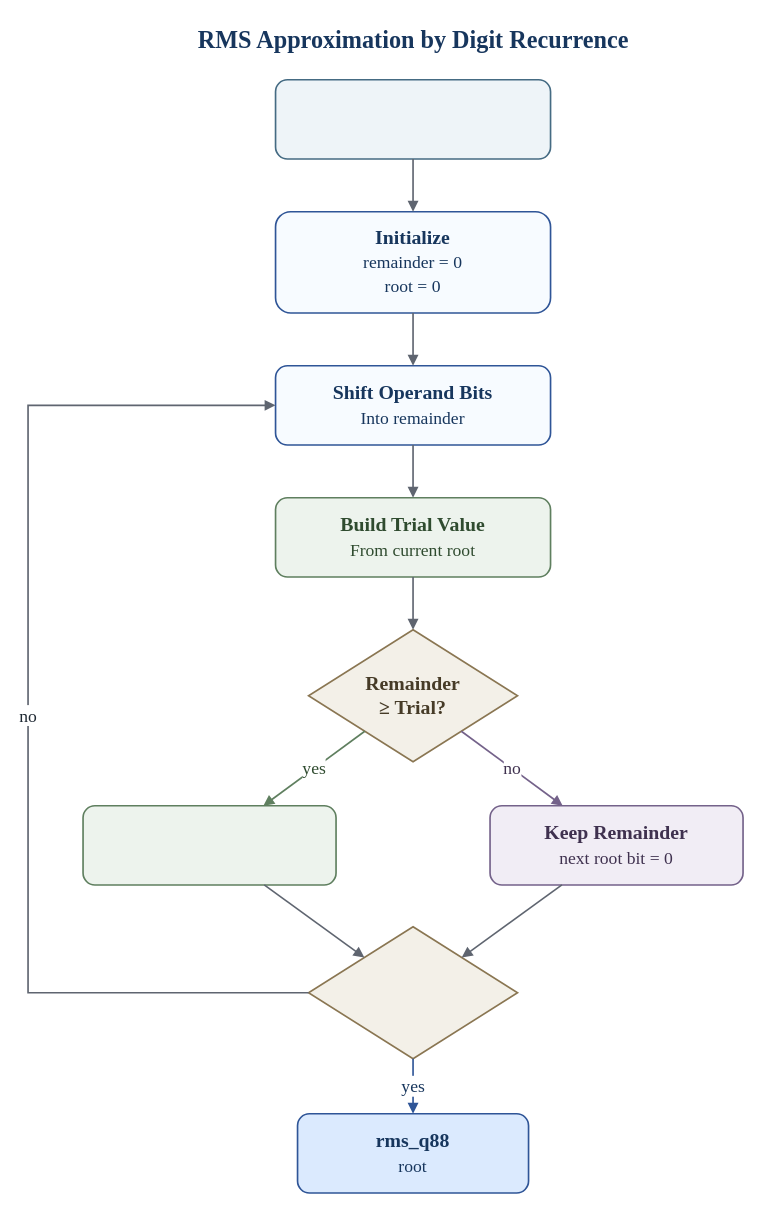
Image size: 762x1212. Some labels were removed from this diagram. Here are the shapes that lost their labels. From the top down, the box of each, then its label:
(274, 78, 551, 159): Input mean_sq_q16 + eps
(82, 804, 336, 885): Subtract Trial next root bit = 1
(307, 925, 518, 1059): All Bits Done?
